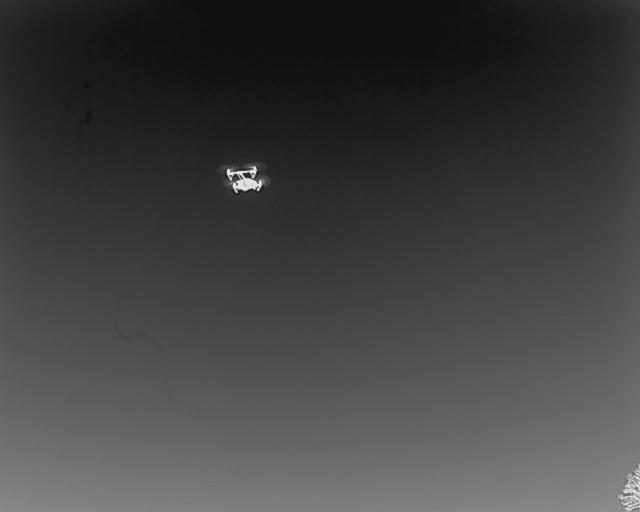drone: (218, 162, 268, 205)
